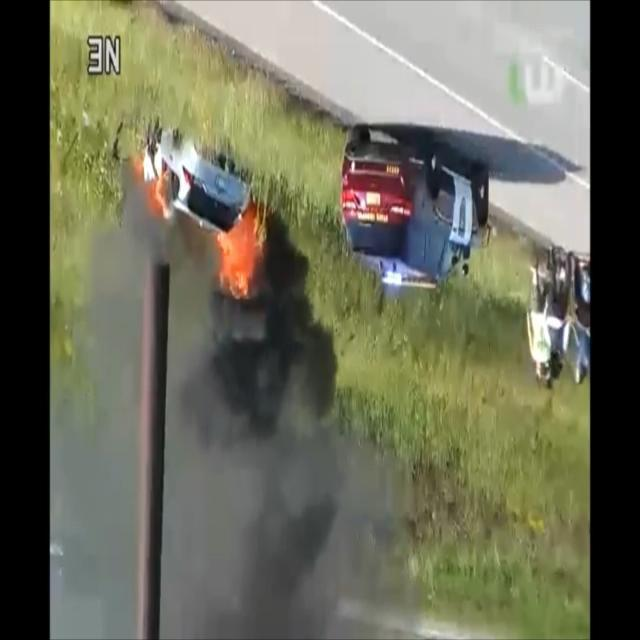fire: (210, 207, 270, 297), (126, 148, 186, 228)
